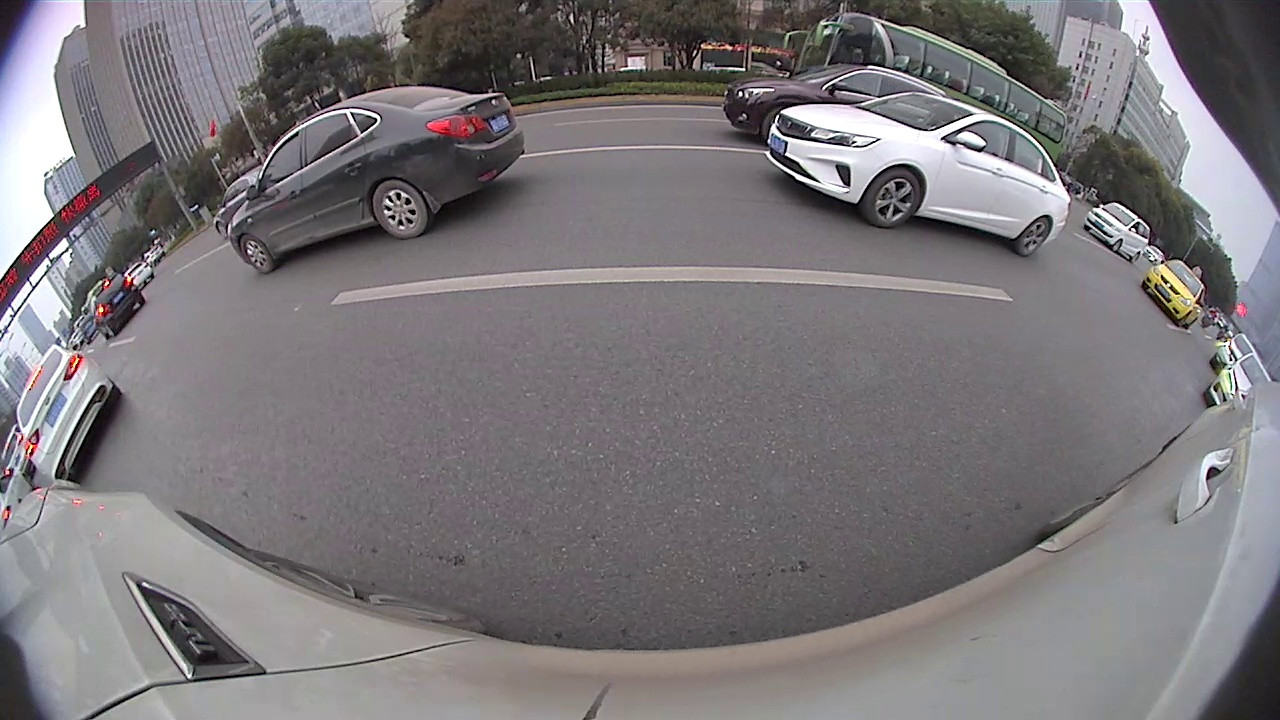bus: (784, 14, 1073, 165)
car: (227, 84, 525, 278), (765, 88, 1075, 261), (720, 63, 956, 143), (13, 337, 124, 487), (1144, 256, 1209, 333), (1200, 351, 1273, 419), (1084, 197, 1150, 269)
front: (864, 167, 923, 228), (237, 234, 275, 273)
rear: (372, 177, 428, 240), (1016, 216, 1052, 256)
